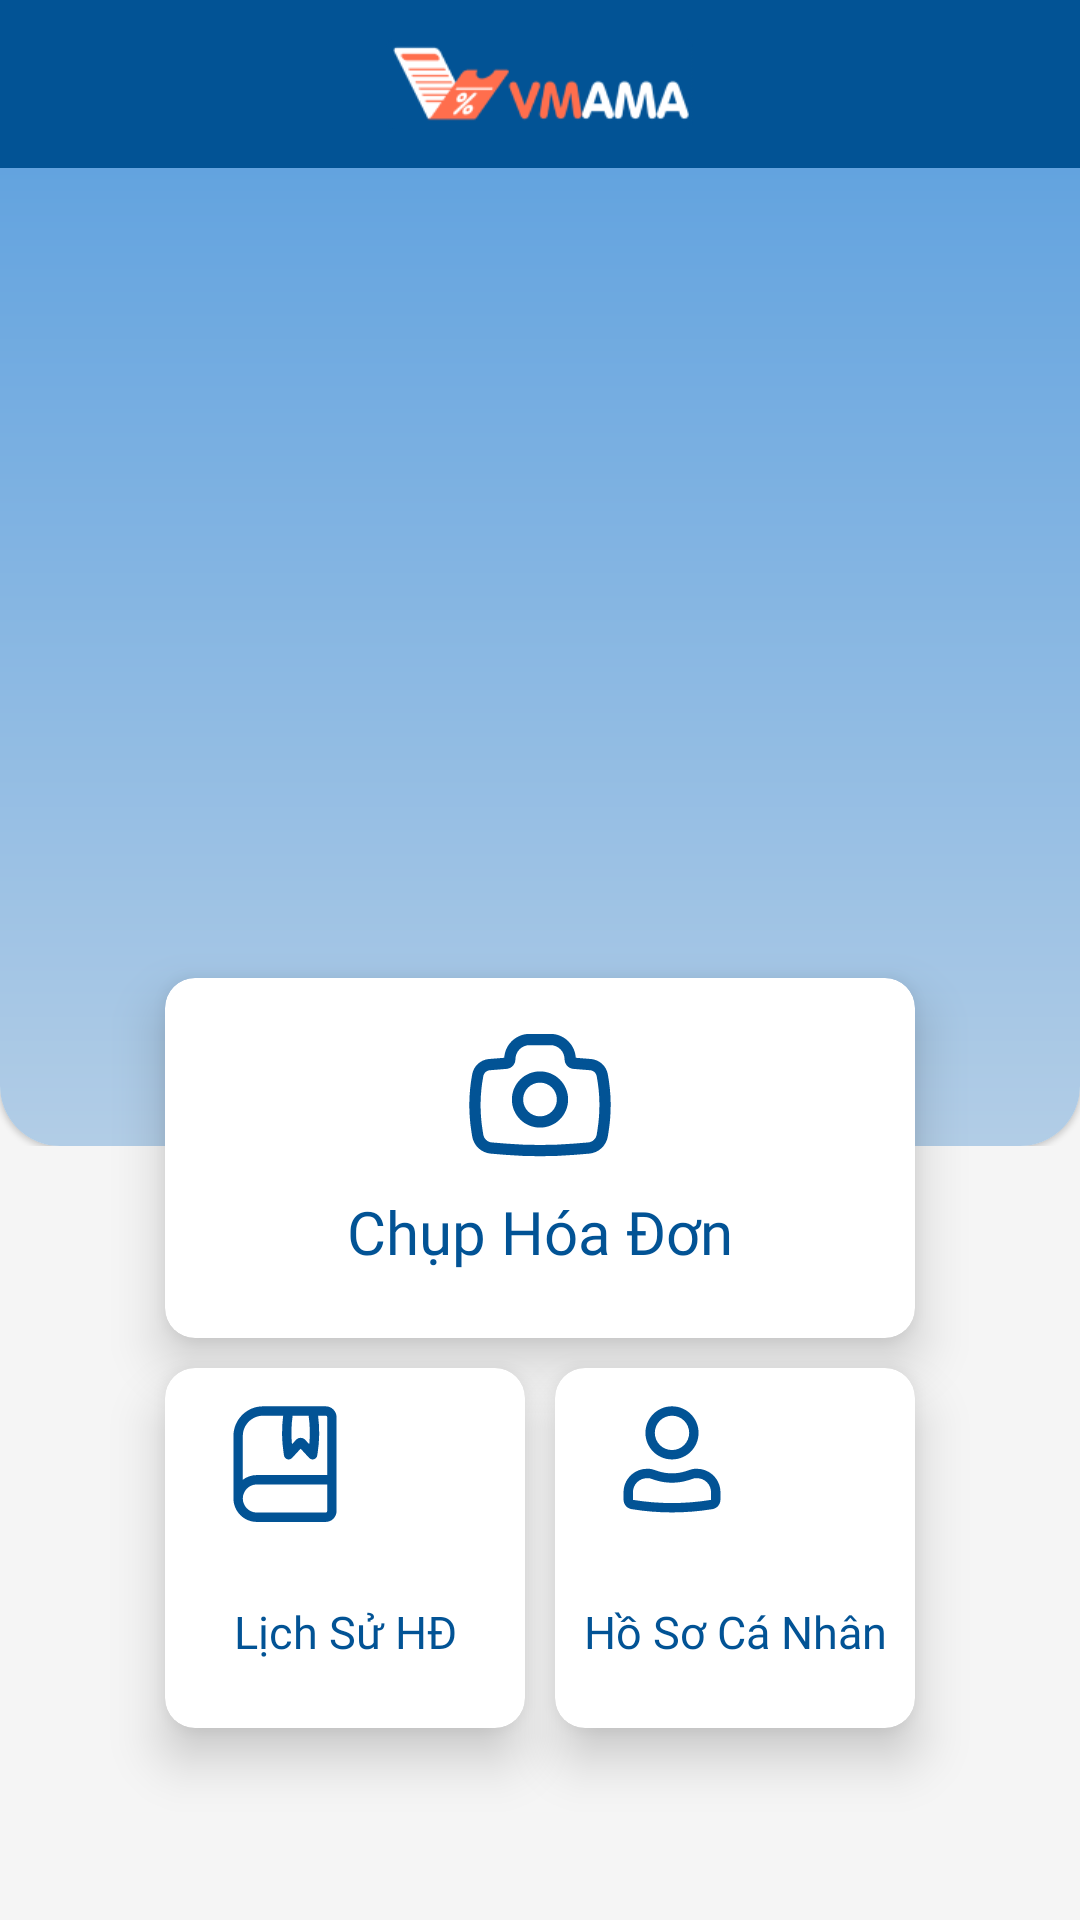

Where to tap for icons on this 1080px x 1920px app screen, as [x,y]:
history: [285,1464]
profile: [672,1459]
take photo: [540,1095]
